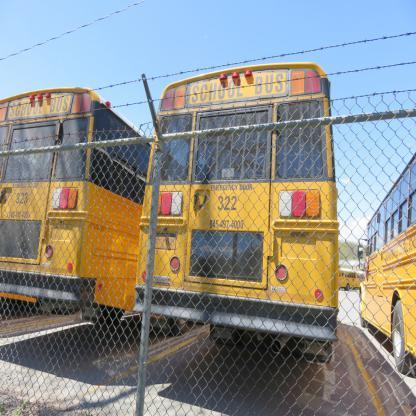Bus: (130, 60, 339, 346), (1, 82, 152, 320), (355, 152, 415, 375), (338, 269, 362, 291)
